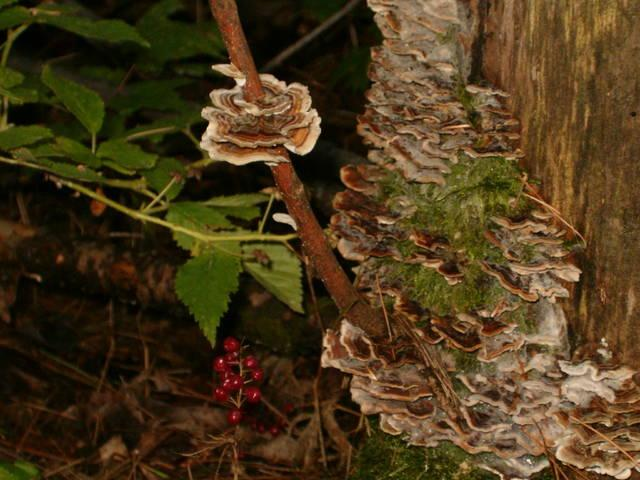poisonous_mushroom: (331, 5, 640, 480), (198, 60, 322, 167)
